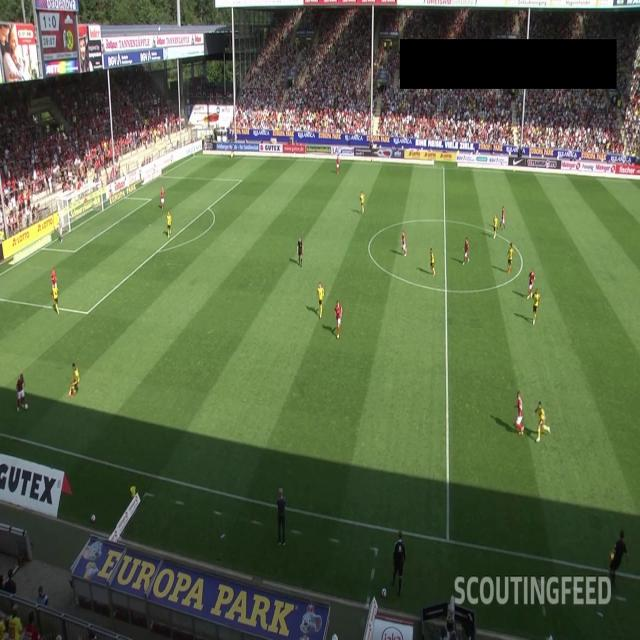ball: (24, 400, 29, 411)
player: (511, 386, 525, 432), (532, 402, 548, 441), (67, 357, 82, 398), (14, 366, 25, 414), (334, 300, 344, 338), (426, 245, 437, 279), (316, 280, 326, 316), (51, 284, 61, 314), (532, 289, 540, 325), (399, 232, 408, 262), (462, 238, 470, 269), (49, 269, 58, 295), (166, 211, 173, 243), (357, 190, 366, 212), (160, 183, 167, 211), (507, 241, 513, 273), (528, 266, 534, 296), (58, 214, 64, 243), (493, 214, 499, 243), (336, 153, 342, 175), (501, 203, 506, 228)
